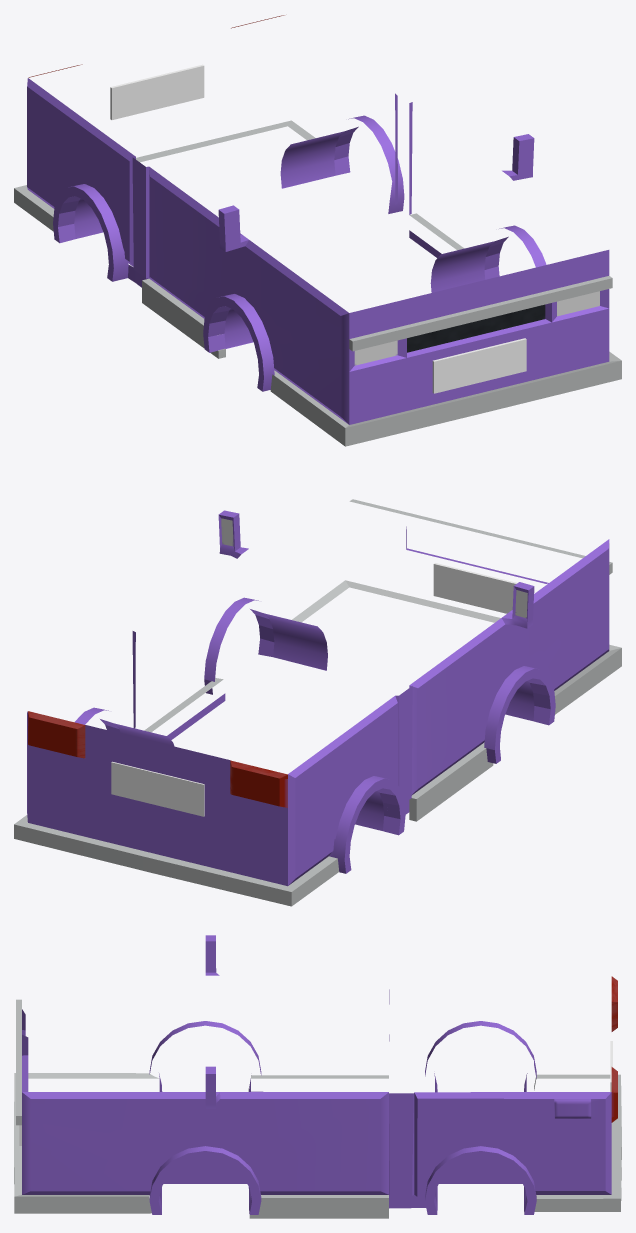
File: BOXY-BOTTOM-fLb7osts.glb
3 views of the same model, one above another, from view 1: azimuth 30°, elevation 25°; view 2: azimuth 150°, elevation 25°; view 3: azimuth 270°, elevation 25° (orthographic). The views are drawn at different scales.
Size of the model in its own units: 1.79 by 0.9221 by 3.31.
2 materials, 2 textured.
